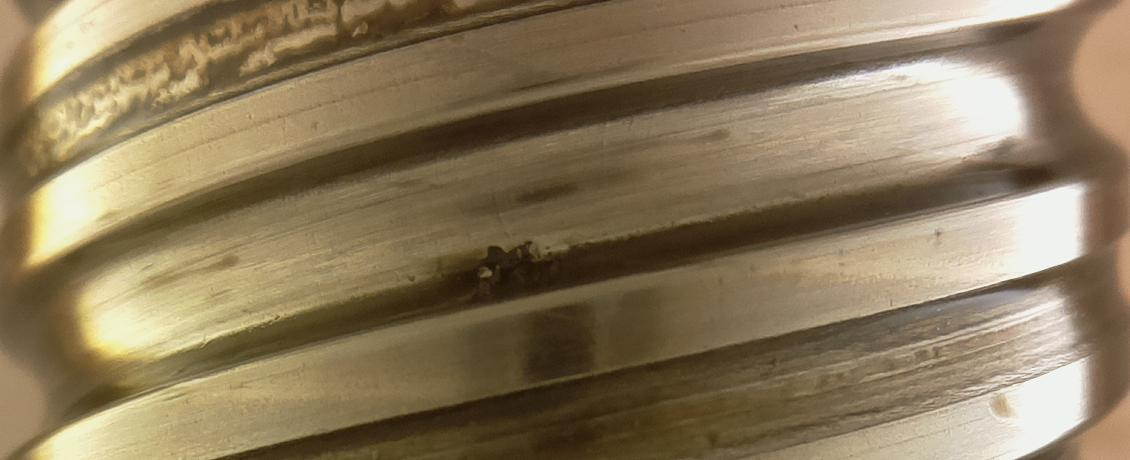pitting: (474, 240, 560, 299)
